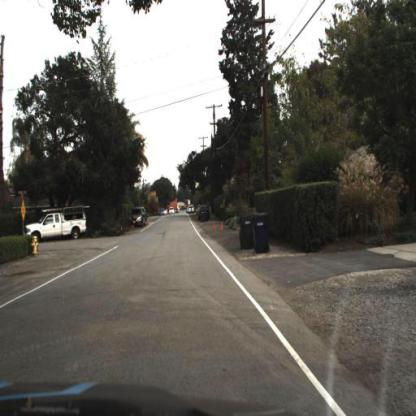car: (23, 209, 89, 245), (132, 206, 148, 227)
